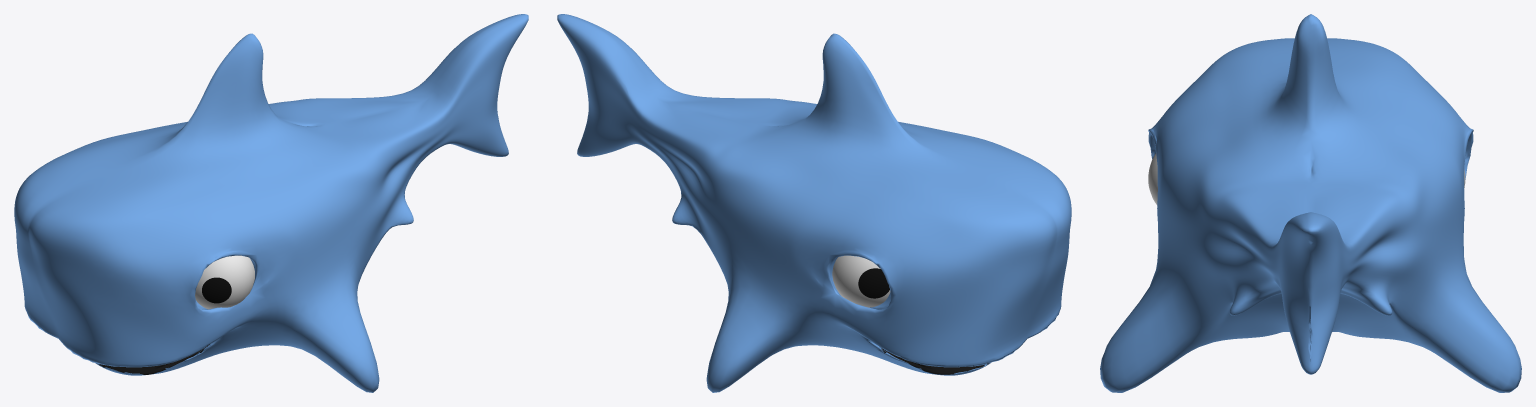
Rendered from fish.glb.
3 views of the same model, side by side, from view 1: azimuth 30°, elevation 25°; view 2: azimuth 150°, elevation 25°; view 3: azimuth 270°, elevation 25° (orthographic). The views are drawn at different scales.
Parts seen in each view (by area): view 1: Cube, Sphere.001; view 2: Cube, Sphere; view 3: Cube, Sphere.001.
Boxes of the visible parts, <box> form: Cube: <box>14,14,528,392</box>; Sphere.001: <box>195,255,254,309</box>; Cube: <box>557,14,1071,392</box>; Sphere: <box>832,255,890,307</box>; Cube: <box>1100,14,1521,392</box>; Sphere.001: <box>1148,153,1157,205</box>.
Size of the model in its own units: 3.77 by 2.2 by 2.36.
